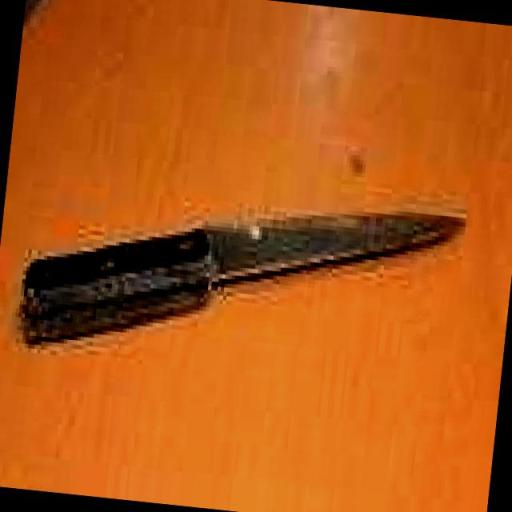knife: (0, 144, 491, 406)
